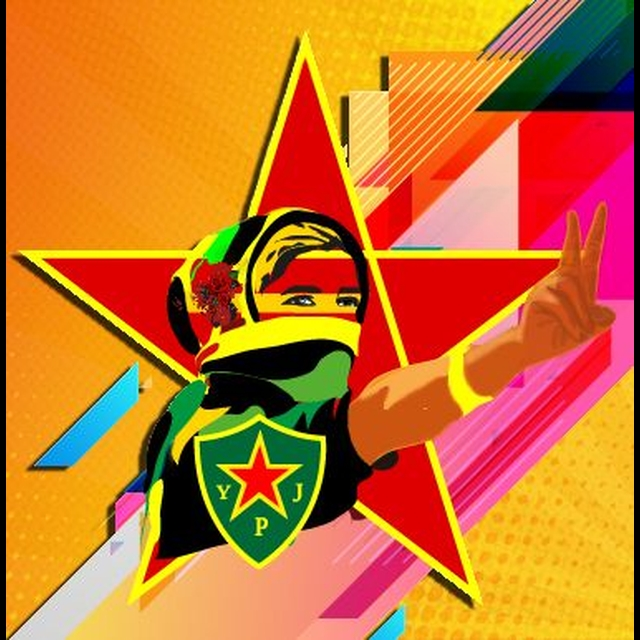YPJ: (213, 432, 306, 541)
